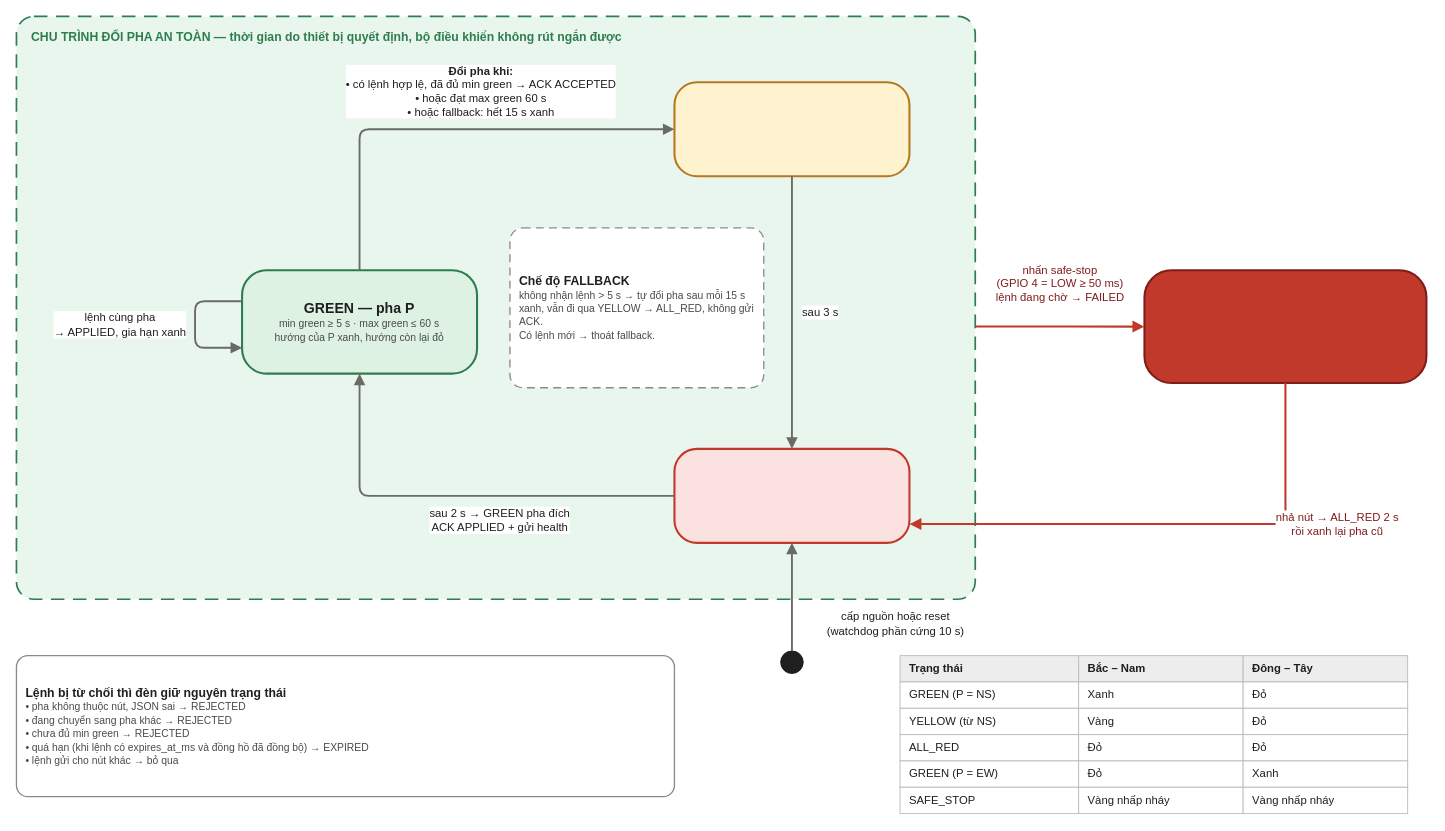
Some shapes in this 1445 by 831 pixel diagram are drawn without their labels. The centre of each missing label's shape, as x and y in pixels:
"ALL_RED 2 s · mọi hướng đỏ" belongs at (x=791, y=495).
"SAFE_STOP mọi đèn vàng nhấp nháy (0,5 s sáng / 0,5 s tắt) mọi lệnh → REJECTED" belongs at (x=1285, y=326).
"YELLOW 3 s · hướng đang xanh chuyển vàng" belongs at (x=791, y=129).
